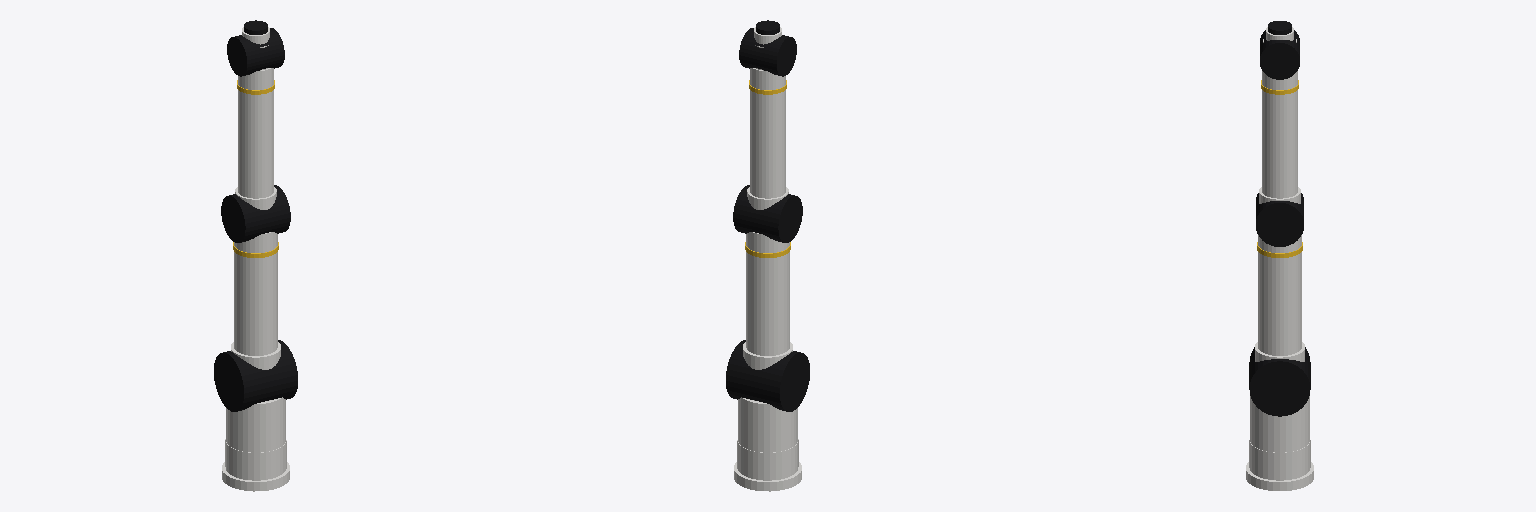
robot.urdf — omniarm7:
<?xml version='1.0' encoding='utf-8'?>
<!--
  OmniArm 7 - OmniSim's generic 7-axis collaborative arm.

  A vendor-neutral reference cobot: 7 revolute joints in the y-along-arm
  convention, 1.515 m shoulder-to-flange span, ~57 kg. It exists so demos,
  tests and tutorials have a redundant-DoF arm to drive without depending on
  any manufacturer's model.

  All geometry is authored in this repository. The visual shells are
  primitive solids emitted by scripts/dev/gen_omnisim_robot_visuals.py;
  collision geometry is primitive cylinders. No mesh, texture or CAD file
  from any third party is used, and nothing here is imported or derived from
  a vendor product model.

  See ../PROVENANCE.md.
-->
<robot name="omniarm7">


	<link name="link0">
		<inertial>
			<origin rpy="0 0 0" xyz="0 0 0.06" />
			<mass value="2.133" />
			<inertia ixx="0.018433" ixy="0" ixz="0" iyy="0.017705" iyz="0" izz="0.023304" />
		</inertial>
		<visual>
			<origin xyz="0 0 0.020" rpy="0 0 0" />
			<geometry>
				<cylinder radius="0.135" length="0.04" />
			</geometry>
			<material name="omnisim_shell">
				<color rgba="0.898 0.894 0.882 1.0" />
				<omnisim roughness="0.42" metalness="0.0" />
			</material>
		</visual>
		<visual>
			<origin xyz="0 0 0.100" rpy="0 0 0" />
			<geometry>
				<cylinder radius="0.12" length="0.12" />
			</geometry>
			<material name="omnisim_shell">
				<color rgba="0.898 0.894 0.882 1.0" />
				<omnisim roughness="0.42" metalness="0.0" />
			</material>
		</visual>
		<visual>
			<origin xyz="0 0 0.169" rpy="0 0 0" />
			<geometry>
				<cylinder radius="0.104" length="0.018" />
			</geometry>
			<material name="omnisim_accent">
				<color rgba="0.965 0.780 0.204 1.0" />
				<omnisim roughness="0.35" metalness="0.2" />
			</material>
		</visual>
<collision>
			<origin xyz="0 0 0.095" rpy="0 0 0" />
			<geometry>
				<cylinder radius="0.13" length="0.19" />
			</geometry>
		</collision>
	</link>

	<link name="link1">
		<inertial>
			<origin rpy="0 0 0" xyz="0.013845 0.316366 0" />
			<mass value="10.458" />
			<inertia ixx="0.110046" ixy="0" ixz="0" iyy="0.100293" iyz="0" izz="0.151328" />
		</inertial>
		<visual>
			<origin xyz="0 0.200 0" rpy="1.5708 0 0" />
			<geometry>
				<cylinder radius="0.118" length="0.34" />
			</geometry>
			<material name="omnisim_shell">
				<color rgba="0.898 0.894 0.882 1.0" />
				<omnisim roughness="0.42" metalness="0.0" />
			</material>
		</visual>
		<visual>
			<origin xyz="0 0.438 0" rpy="0 1.5708 0" />
			<geometry>
				<cylinder radius="0.12" length="0.245" />
			</geometry>
			<material name="omnisim_joint">
				<color rgba="0.129 0.129 0.137 1.0" />
				<omnisim roughness="0.28" metalness="0.85" />
			</material>
		</visual>
<collision>
			<origin xyz="0 0.364 0" rpy="1.5707963 0 0" />
			<geometry>
				<cylinder radius="0.145" length="0.305" />
			</geometry>
		</collision>
	</link>

	<link name="link2">
		<inertial>
			<origin rpy="0 0 0" xyz="-0.05 0.06 -0.035" />
			<mass value="14.8" />
			<inertia ixx="0.113447" ixy="0" ixz="0" iyy="0.077083" iyz="0" izz="0.091864" />
		</inertial>
		<visual>
			<origin xyz="0 0.015 0" rpy="1.5708 0 0" />
			<geometry>
				<cylinder radius="0.1" length="0.22" />
			</geometry>
			<material name="omnisim_shell">
				<color rgba="0.898 0.894 0.882 1.0" />
				<omnisim roughness="0.42" metalness="0.0" />
			</material>
		</visual>
<collision>
			<origin xyz="0 0.014 0" rpy="1.5707963 0 0" />
			<geometry>
				<cylinder radius="0.10" length="0.23" />
			</geometry>
		</collision>
	</link>

	<link name="link3">
		<inertial>
			<origin rpy="0 0 0" xyz="-0.01 0.46 0" />
			<mass value="11.0" />
			<inertia ixx="0.346706" ixy="0" ixz="0" iyy="0.077251" iyz="0" izz="0.390545" />
		</inertial>
		<visual>
			<origin xyz="0 0.340 0" rpy="1.5708 0 0" />
			<geometry>
				<cylinder radius="0.086" length="0.62" />
			</geometry>
			<material name="omnisim_shell">
				<color rgba="0.898 0.894 0.882 1.0" />
				<omnisim roughness="0.42" metalness="0.0" />
			</material>
		</visual>
		<visual>
			<origin xyz="0 0.560 0" rpy="1.5708 0 0" />
			<geometry>
				<cylinder radius="0.09" length="0.02" />
			</geometry>
			<material name="omnisim_accent">
				<color rgba="0.965 0.780 0.204 1.0" />
				<omnisim roughness="0.35" metalness="0.2" />
			</material>
		</visual>
		<visual>
			<origin xyz="0 0.700 0" rpy="0 1.5708 0" />
			<geometry>
				<cylinder radius="0.096" length="0.205" />
			</geometry>
			<material name="omnisim_joint">
				<color rgba="0.129 0.129 0.137 1.0" />
				<omnisim roughness="0.28" metalness="0.85" />
			</material>
		</visual>
<collision>
			<origin xyz="-0.005 0.457 0" rpy="1.5707963 0 0" />
			<geometry>
				<cylinder radius="0.10" length="0.60" />
			</geometry>
		</collision>
	</link>

	<link name="link4">
		<inertial>
			<origin rpy="0 0 0" xyz="-0.03 -0.01 0" />
			<mass value="5.5" />
			<inertia ixx="0.023329" ixy="0" ixz="0" iyy="0.018498" iyz="0" izz="0.022288" />
		</inertial>
		<visual>
			<origin xyz="0 0.015 0" rpy="1.5708 0 0" />
			<geometry>
				<cylinder radius="0.082" length="0.17" />
			</geometry>
			<material name="omnisim_shell">
				<color rgba="0.898 0.894 0.882 1.0" />
				<omnisim roughness="0.42" metalness="0.0" />
			</material>
		</visual>
<collision>
			<origin xyz="0 0.014 0" rpy="1.5707963 0 0" />
			<geometry>
				<cylinder radius="0.075" length="0.175" />
			</geometry>
		</collision>
	</link>

	<link name="link5">
		<inertial>
			<origin rpy="0 0 0" xyz="-0.06 0.37 0" />
			<mass value="8.0" />
			<inertia ixx="0.282115" ixy="0" ixz="0" iyy="0.044803" iyz="0" izz="0.305413" />
		</inertial>
		<visual>
			<origin xyz="0 0.340 0" rpy="1.5708 0 0" />
			<geometry>
				<cylinder radius="0.072" length="0.62" />
			</geometry>
			<material name="omnisim_shell">
				<color rgba="0.898 0.894 0.882 1.0" />
				<omnisim roughness="0.42" metalness="0.0" />
			</material>
		</visual>
		<visual>
			<origin xyz="0 0.560 0" rpy="1.5708 0 0" />
			<geometry>
				<cylinder radius="0.076" length="0.018" />
			</geometry>
			<material name="omnisim_accent">
				<color rgba="0.965 0.780 0.204 1.0" />
				<omnisim roughness="0.35" metalness="0.2" />
			</material>
		</visual>
		<visual>
			<origin xyz="0 0.700 0" rpy="0 1.5708 0" />
			<geometry>
				<cylinder radius="0.08" length="0.17" />
			</geometry>
			<material name="omnisim_joint">
				<color rgba="0.129 0.129 0.137 1.0" />
				<omnisim roughness="0.28" metalness="0.85" />
			</material>
		</visual>
<collision>
			<origin xyz="-0.057 0.441 0" rpy="1.5707963 0 0" />
			<geometry>
				<cylinder radius="0.095" length="0.64" />
			</geometry>
		</collision>
	</link>

	<link name="link6">
		<inertial>
			<origin rpy="0 0 0" xyz="-0.02 -0.04 -0.01" />
			<mass value="4.5" />
			<inertia ixx="0.023031" ixy="0" ixz="0" iyy="0.010092" iyz="0" izz="0.023031" />
		</inertial>
		<visual>
			<origin xyz="0 -0.050 0" rpy="1.5708 0 0" />
			<geometry>
				<cylinder radius="0.066" length="0.2" />
			</geometry>
			<material name="omnisim_shell">
				<color rgba="0.898 0.894 0.882 1.0" />
				<omnisim roughness="0.42" metalness="0.0" />
			</material>
		</visual>
<collision>
			<origin xyz="0 -0.052 0" rpy="1.5707963 0 0" />
			<geometry>
				<cylinder radius="0.06" length="0.22" />
			</geometry>
		</collision>
	</link>

	<link name="link7">
		<inertial>
			<origin rpy="0 0 0" xyz="0 0.08 0" />
			<mass value="1.173" />
			<inertia ixx="0.001279" ixy="0" ixz="0" iyy="0.001655" iyz="0" izz="0.001279" />
		</inertial>
		<visual>
			<origin xyz="0 0.050 0" rpy="1.5708 0 0" />
			<geometry>
				<cylinder radius="0.056" length="0.09" />
			</geometry>
			<material name="omnisim_shell">
				<color rgba="0.898 0.894 0.882 1.0" />
				<omnisim roughness="0.42" metalness="0.0" />
			</material>
		</visual>
		<visual>
			<origin xyz="0 0.103 0" rpy="1.5708 0 0" />
			<geometry>
				<cylinder radius="0.048" length="0.024" />
			</geometry>
			<material name="omnisim_joint">
				<color rgba="0.129 0.129 0.137 1.0" />
				<omnisim roughness="0.28" metalness="0.85" />
			</material>
		</visual>
<collision>
			<origin xyz="0 0.081 0" rpy="1.5707963 0 0" />
			<geometry>
				<cylinder radius="0.047" length="0.068" />
			</geometry>
		</collision>
	</link>

	<link name="flange">
	</link>

	<link name="gripper_tcp">
	</link>

	<joint name="joint1" type="revolute">
		<limit lower="-3.14159" upper="3.14159" effort="432" velocity="2.0944" />
		<origin rpy="1.5707963267948966 0 0" xyz="0 0 0" />
		<parent link="link0" />
		<child link="link1" />
		<axis xyz="0 1 0" />
	</joint>

	<joint name="joint2" type="revolute">
		<limit lower="-2.0944" upper="2.0944" effort="432" velocity="2.0944" />
		<origin rpy="0 0 0" xyz="0 0.438 0" />
		<parent link="link1" />
		<child link="link2" />
		<axis xyz="1 0 0" />
	</joint>

	<joint name="joint3" type="revolute">
		<limit lower="-3.14159" upper="3.14159" effort="217" velocity="2.618" />
		<origin rpy="0 0 0" xyz="0 0 0" />
		<parent link="link2" />
		<child link="link3" />
		<axis xyz="0 1 0" />
	</joint>

	<joint name="joint4" type="revolute">
		<limit lower="-2.618" upper="2.618" effort="217" velocity="2.618" />
		<origin rpy="0 0 0" xyz="0 0.7 0" />
		<parent link="link3" />
		<child link="link4" />
		<axis xyz="1 0 0" />
	</joint>

	<joint name="joint5" type="revolute">
		<limit lower="-3.14159" upper="3.14159" effort="57" velocity="3.8397" />
		<origin rpy="0 0 0" xyz="0 0 0" />
		<parent link="link4" />
		<child link="link5" />
		<axis xyz="0 1 0" />
	</joint>

	<joint name="joint6" type="revolute">
		<limit lower="-3.14159" upper="3.14159" effort="57" velocity="3.8397" />
		<origin rpy="0 0 0" xyz="0 0.7 0" />
		<parent link="link5" />
		<child link="link6" />
		<axis xyz="1 0 0" />
	</joint>

	<joint name="joint7" type="revolute">
		<limit lower="-3.14159" upper="3.14159" effort="37" velocity="3.14159" />
		<origin rpy="0 0 0" xyz="0 0 0" />
		<parent link="link6" />
		<child link="link7" />
		<axis xyz="0 1 0" />
	</joint>

	<joint name="link7_to_flange" type="fixed">
		<origin rpy="-1.5707963267948966 -1.5707963267948966 0" xyz="0 0.115 0" />
		<parent link="link7" />
		<child link="flange" />
	</joint>

	<joint name="flange_to_gripper_tcp" type="fixed">
		<origin rpy="0 0 0" xyz="0 0 0" />
		<parent link="flange" />
		<child link="gripper_tcp" />
	</joint>

</robot>

--- Render facts (derived) ---
3 views of the same robot in one strip: view 1: azimuth 30°, elevation 25°; view 2: azimuth 150°, elevation 25°; view 3: azimuth 270°, elevation 25° (orthographic).
Model omniarm7 with 10 links and 9 joints (7 revolute, 2 fixed), rooted at link0, posed every joint at zero.
Links seen in each view (by area): view 1: link3, link1, link5, link0, link2, link7; view 2: link3, link1, link5, link0, link2, link7; view 3: link3, link5, link1, link0.
Boxes of the visible links, bbox=[...] form: link3: bbox=[221, 185, 290, 355]; link1: bbox=[214, 340, 297, 452]; link5: bbox=[227, 28, 284, 198]; link0: bbox=[222, 439, 289, 491]; link2: bbox=[231, 342, 280, 400]; link7: bbox=[242, 20, 269, 44]; link3: bbox=[733, 185, 802, 355]; link1: bbox=[726, 340, 809, 452]; link5: bbox=[739, 28, 796, 198]; link0: bbox=[734, 439, 801, 491]; link2: bbox=[743, 342, 792, 400]; link7: bbox=[754, 20, 781, 44]; link3: bbox=[1256, 193, 1303, 355]; link5: bbox=[1260, 30, 1299, 198]; link1: bbox=[1249, 347, 1310, 452]; link0: bbox=[1246, 440, 1313, 490].
Size in the robot's own frame: 0.27 by 0.27 by 1.95 metres.
Geometry: primitives only (box / cylinder / sphere), no mesh files.
